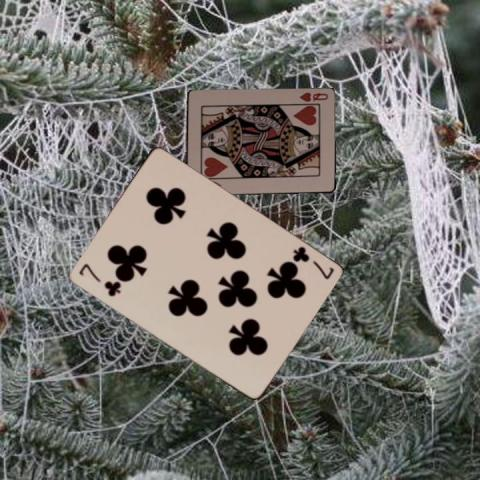7c: (288, 244, 334, 282), (75, 261, 122, 298)
Qh: (297, 90, 329, 104)
